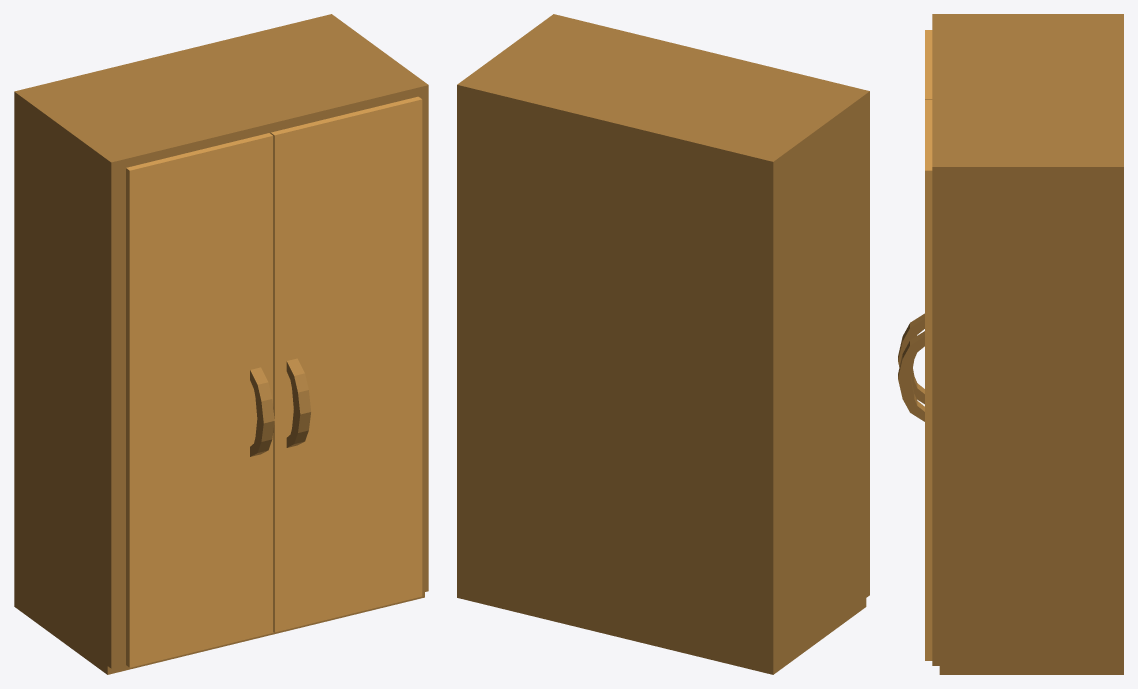
File: wardrobe.glb
3 renders of one model, left to right at view 1: azimuth 30°, elevation 25°; view 2: azimuth 150°, elevation 25°; view 3: azimuth 270°, elevation 25°, orthographic.
Visible parts, largest first — view 1: Standart Wardrobe; view 2: Standart Wardrobe; view 3: Standart Wardrobe.
Boxes of the visible parts, x1,y1,x2,y2 form: Standart Wardrobe: (14,14,428,674); Standart Wardrobe: (457,14,869,674); Standart Wardrobe: (898,14,1123,674).
Size of the model in its own units: 1.47 by 2.28 by 0.9198.
